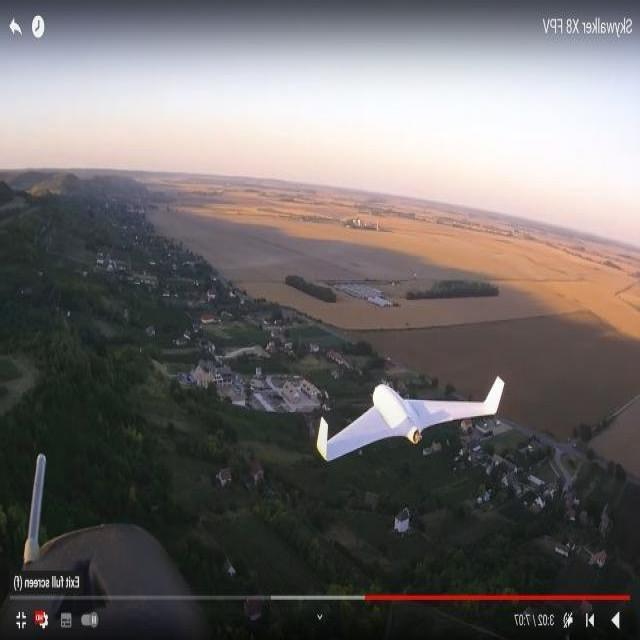Airplane: (312, 378, 509, 463)
